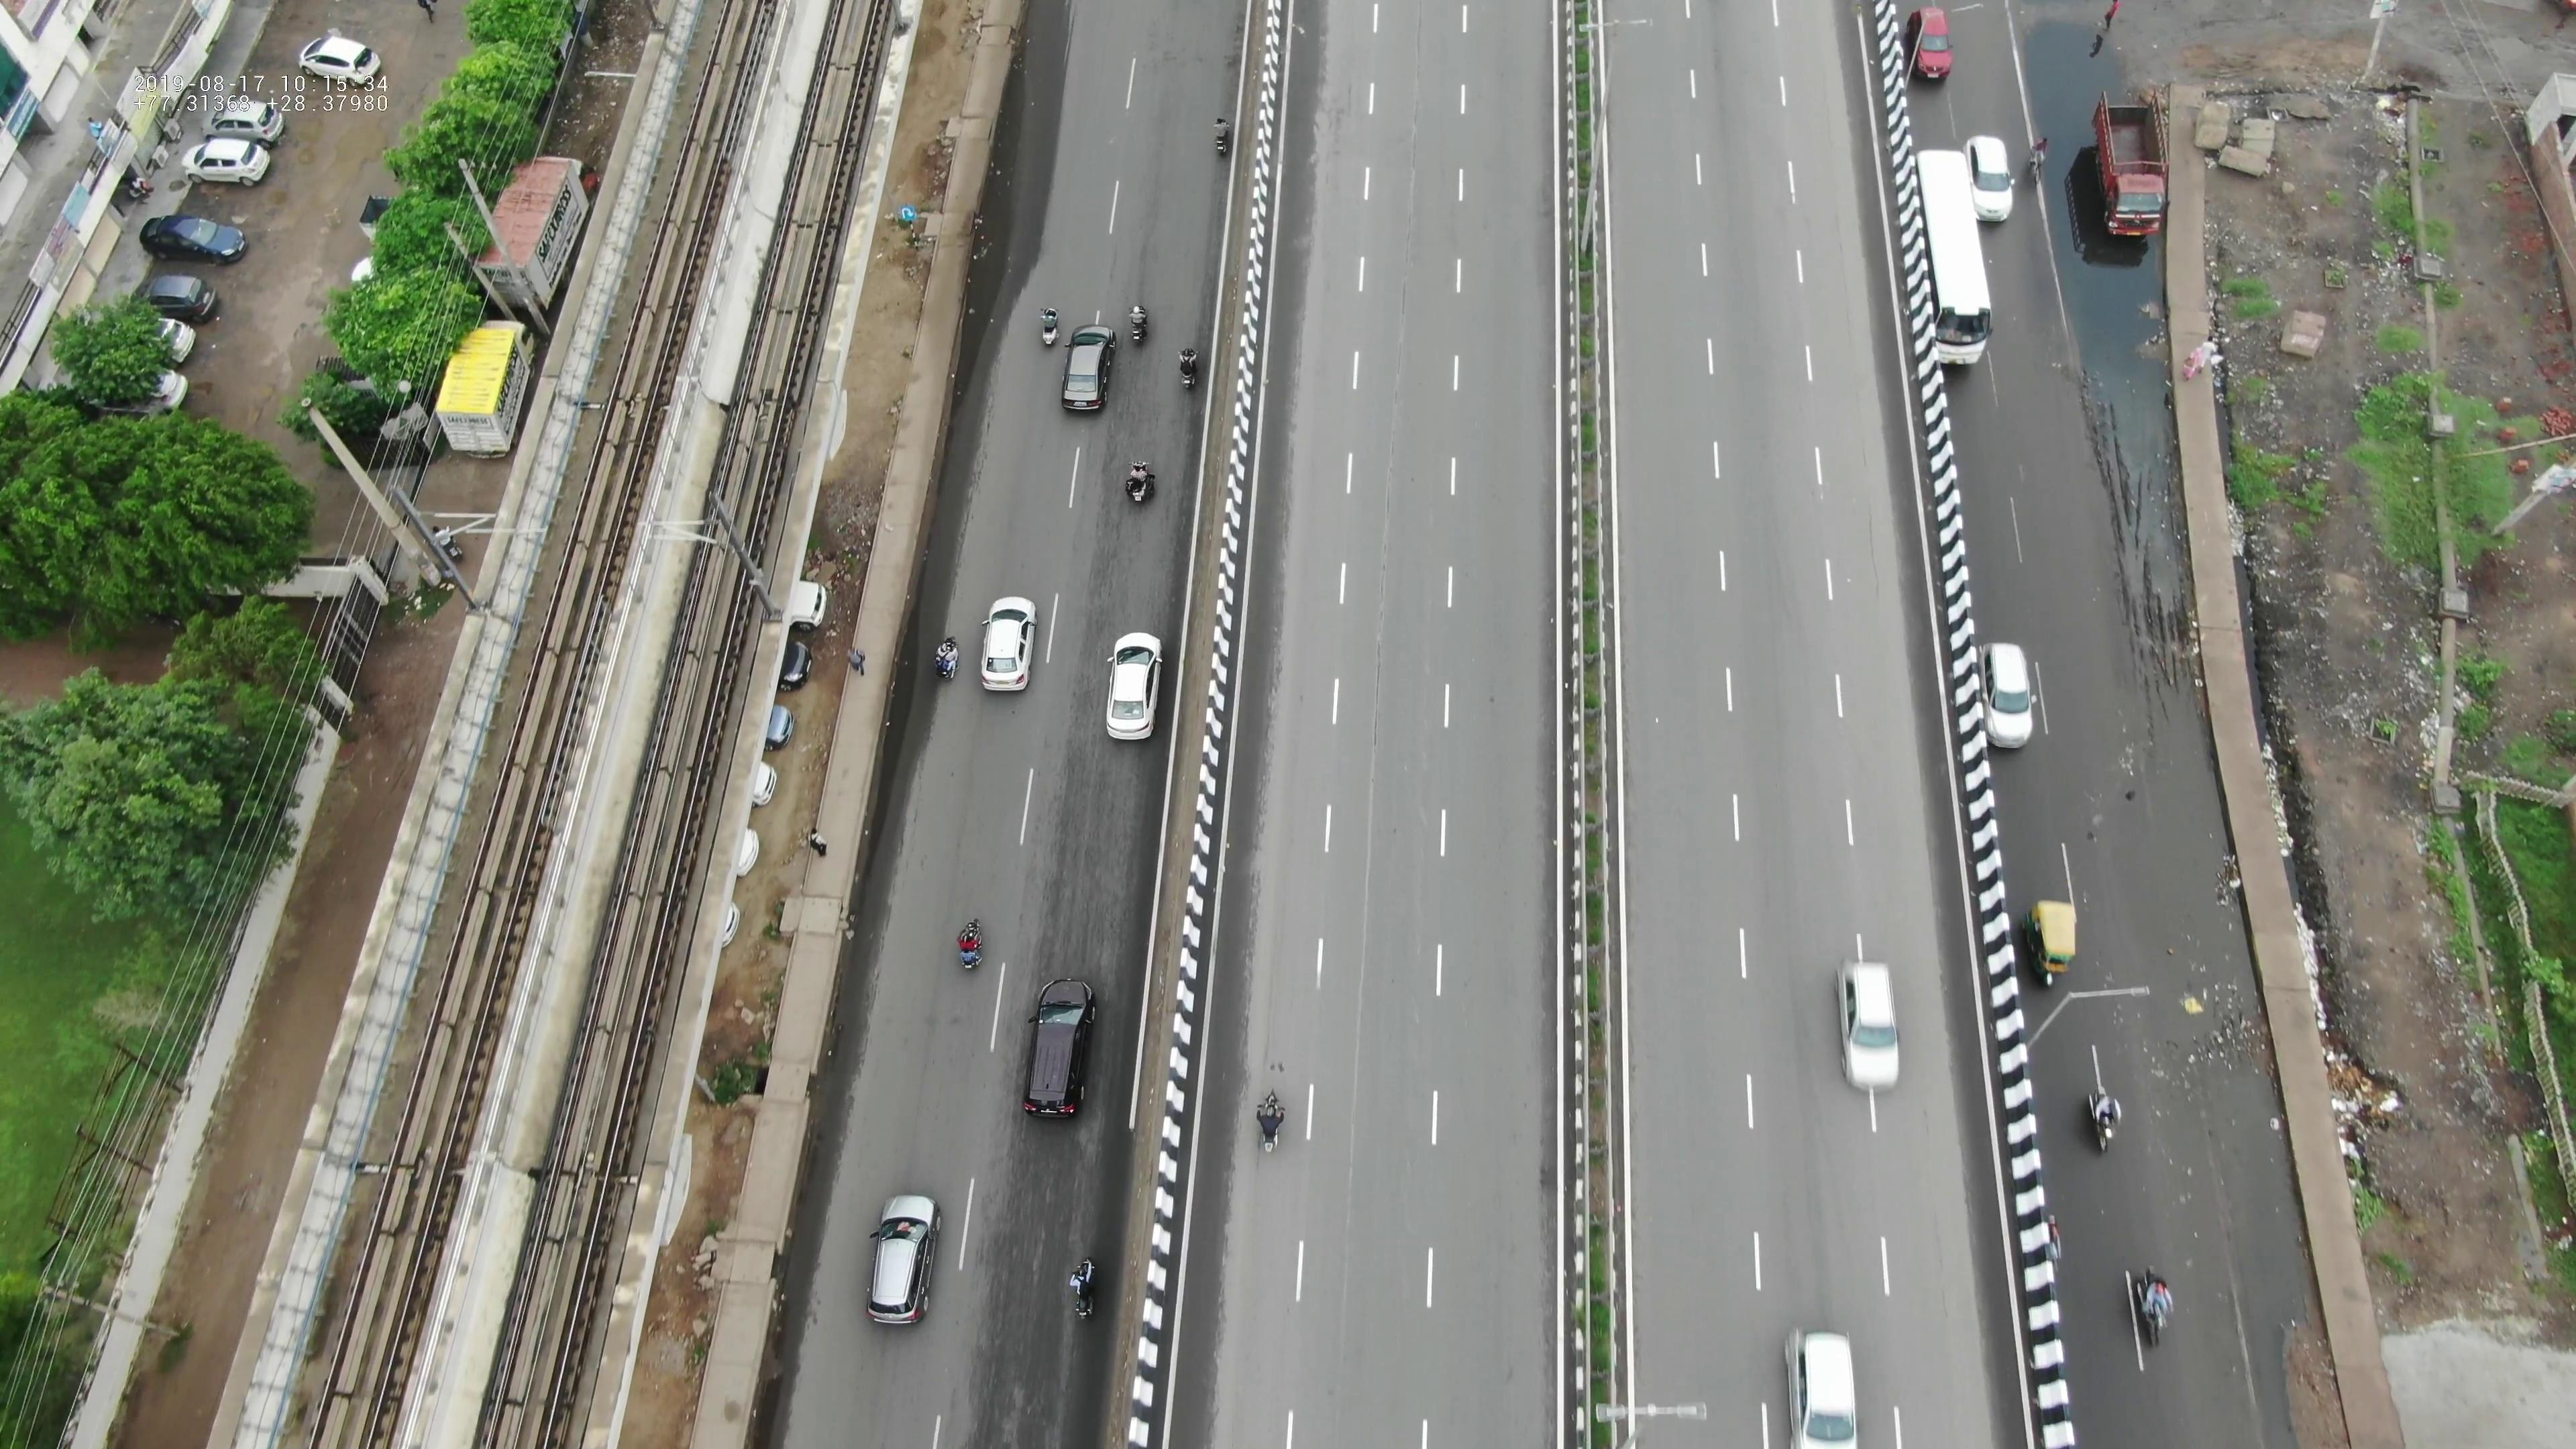Waterlogging: (2123, 740, 2284, 1180), (2049, 225, 2181, 658)
